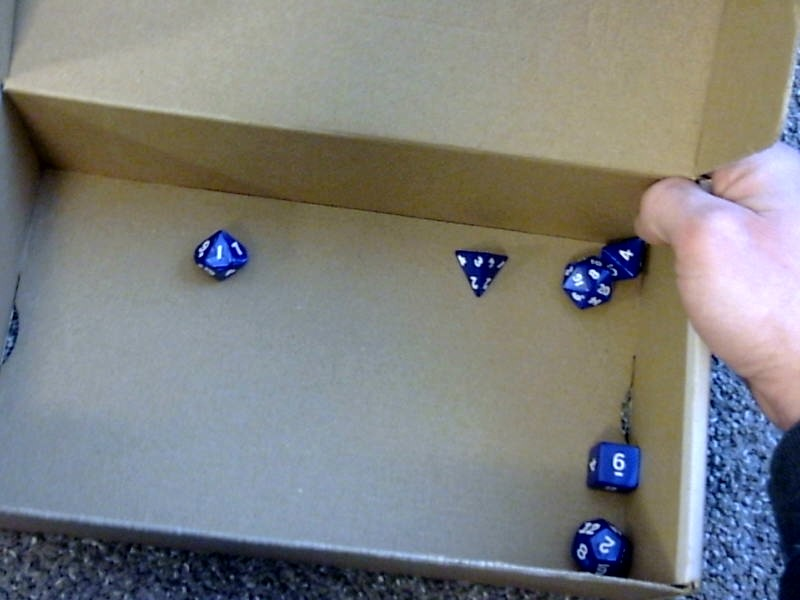d10 1: (190, 224, 250, 284)
d12 2: (566, 511, 632, 580)
d20 8: (552, 256, 613, 312)
d4 3: (449, 245, 509, 300)
d6 6: (583, 433, 644, 497)
d8 4: (599, 226, 647, 278)
